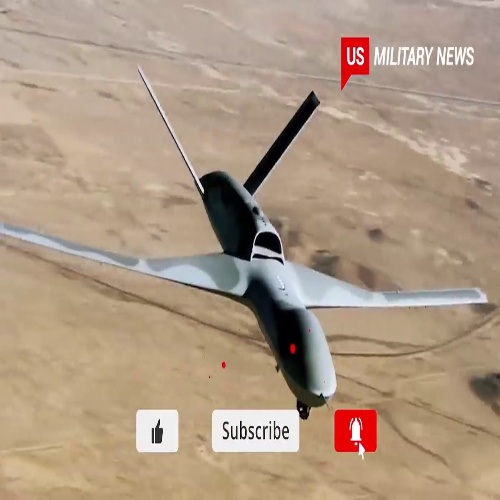uav: (3, 65, 489, 416)
